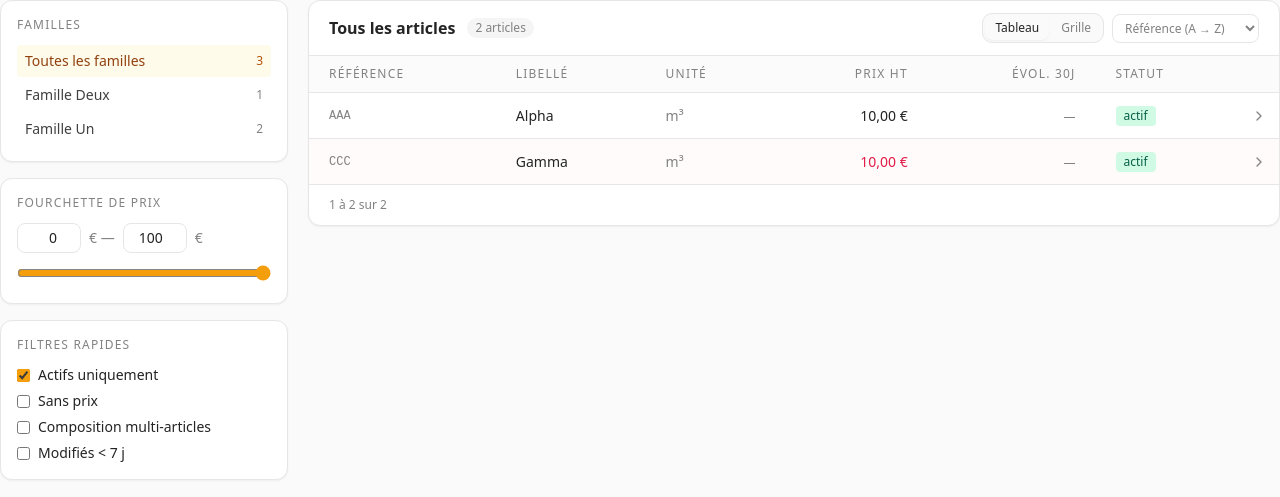
it: ArticlesExplorer — filtres rapides › « Sans prix » ne garde que les articles sans prix
What coordinates should you click on to do the following:
click the checkbox labelled "Sans prix"
I would click on:
 (24, 401)
Its box is [17, 394, 30, 408].
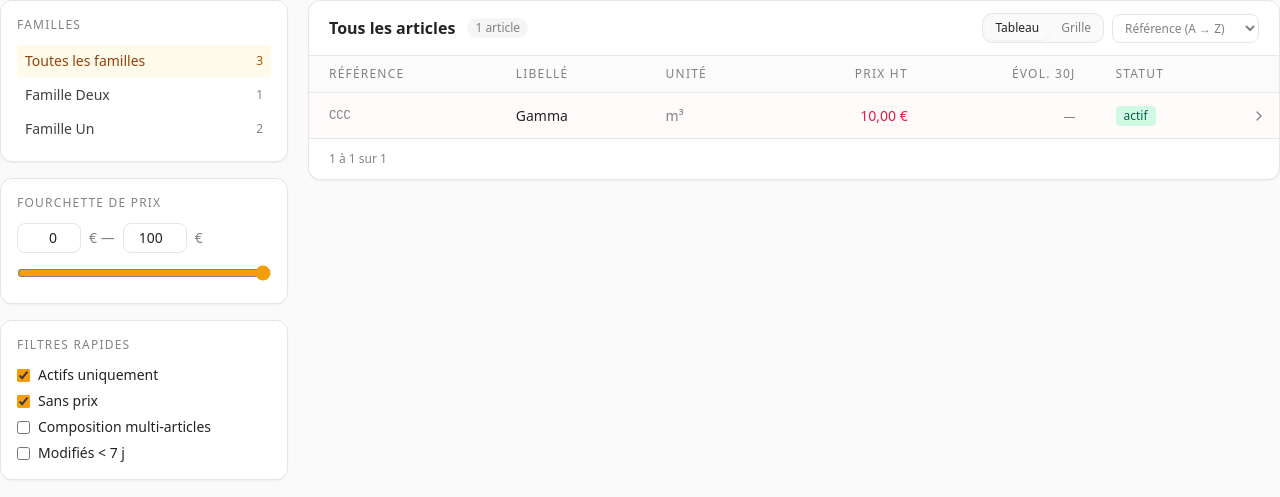
Expected: the text "Gamma" is shown, [516, 106, 568, 124]
Now the text "Alpha" is gone
